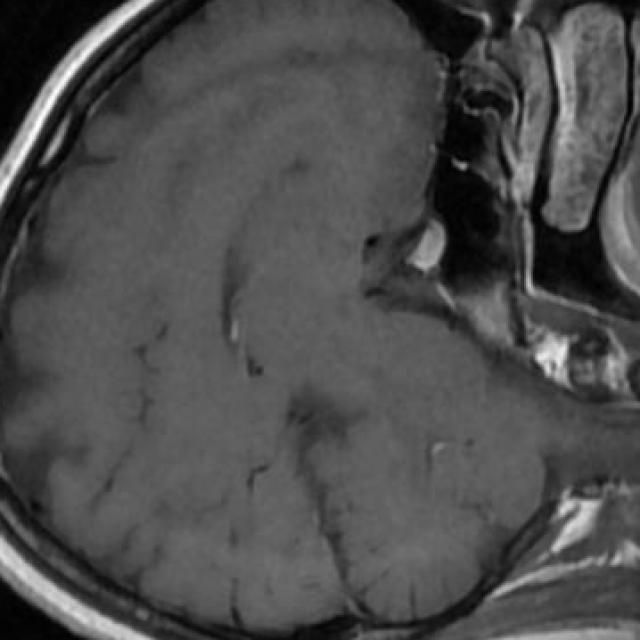pituitary: (408, 216, 449, 275)
